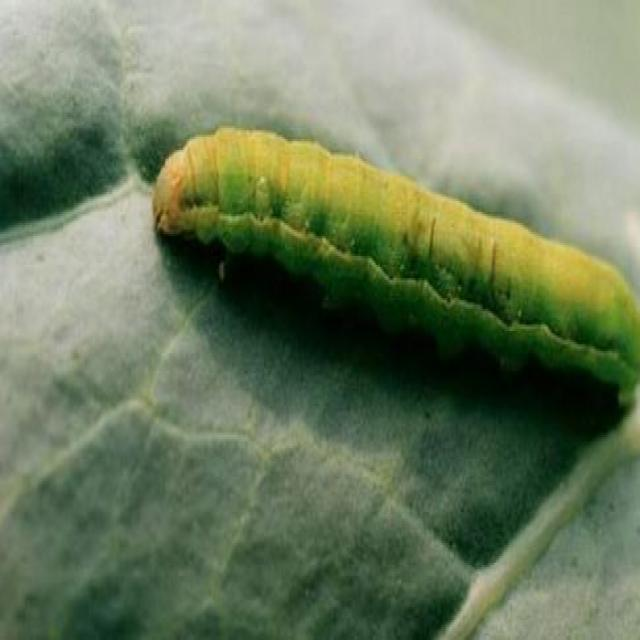BeetArmyWorm-Larva-: (141, 110, 639, 404)
